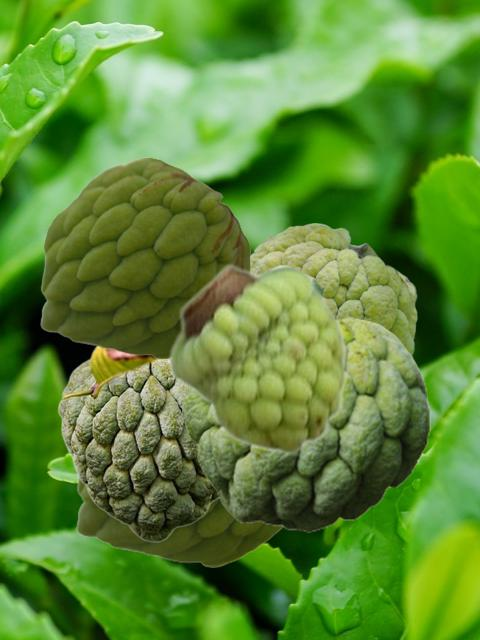atis: (182, 276, 429, 531), (40, 157, 249, 358), (168, 262, 348, 456), (57, 347, 217, 541), (250, 223, 416, 354), (76, 475, 282, 566)
